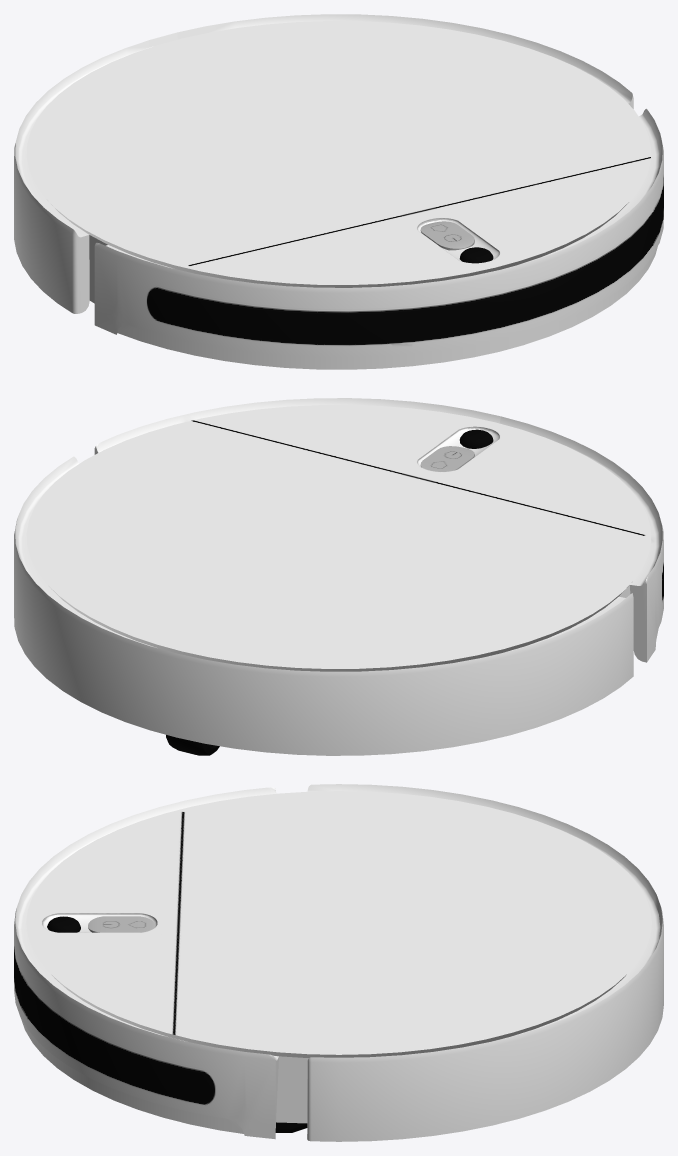
Rendered from robot_vacuum_cleaner_low_poly.glb.
3 views of the same model, one above another, from view 1: azimuth 30°, elevation 25°; view 2: azimuth 150°, elevation 25°; view 3: azimuth 270°, elevation 25° (orthographic).
Visible parts, largest first — view 1: aeneoclsbdg000031; view 2: aeneoclsbdg000031; view 3: aeneoclsbdg000031.
Boxes of the visible parts, x1=… form: aeneoclsbdg000031: x1=14, y1=14, x2=663, y2=369; aeneoclsbdg000031: x1=14, y1=398, x2=663, y2=755; aeneoclsbdg000031: x1=14, y1=784, x2=663, y2=1141.
Bounding box in the file's own units: 0.353 × 0.081 × 0.353.
1 material, 1 textured.
